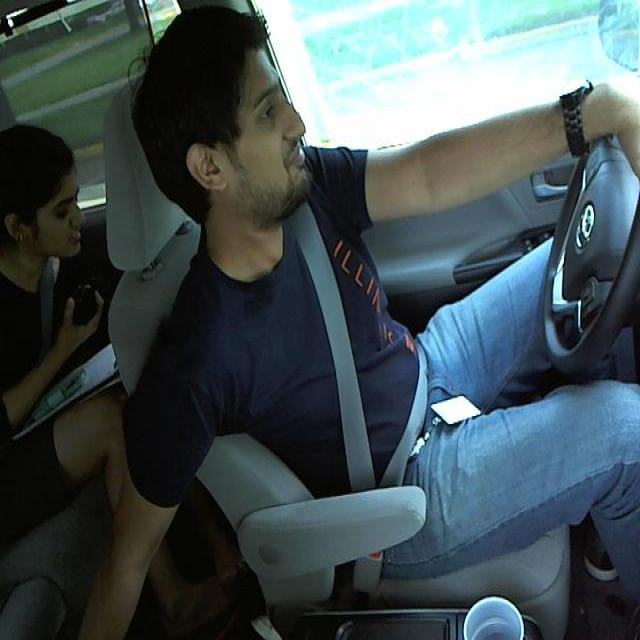seatbelt: (290, 233, 428, 500)
